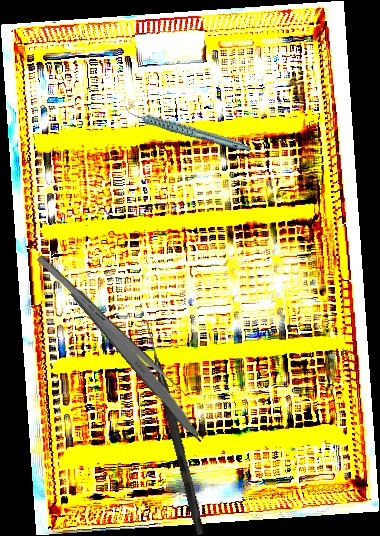Handpiece: (122, 81, 252, 177)
Hook Surgical: (139, 319, 208, 536)
Pusher: (35, 254, 197, 406)
Scalpel Handle: (50, 260, 209, 447)
